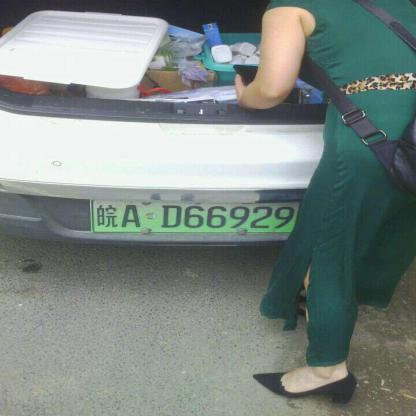lp: (92, 201, 303, 232)
